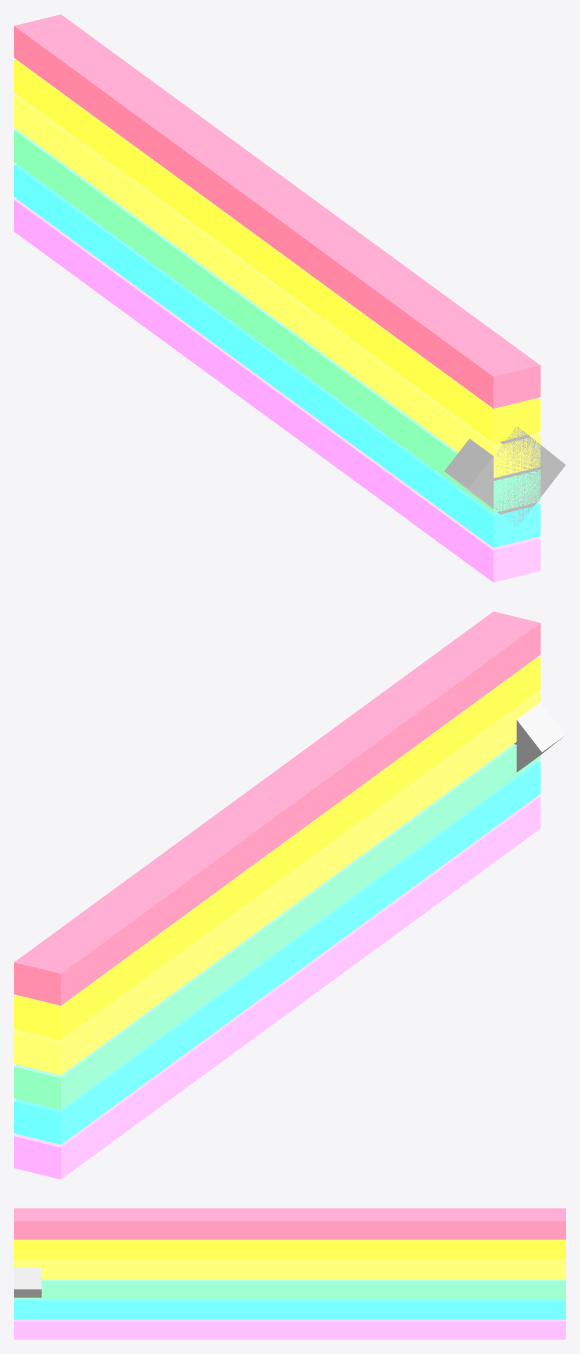
The model's file is FXRainbowBeam.fbx.
3 renders of one model, top to bottom at view 1: azimuth 30°, elevation 25°; view 2: azimuth 150°, elevation 25°; view 3: azimuth 270°, elevation 25°, orthographic. The views are drawn at different scales.
Parts seen in each view (by area): view 1: FX Rainbow Beam_body_0, FX Rainbow Beam_body_5, FX Rainbow Beam_body_1, FX Rainbow Beam_body_4, FX Rainbow Beam_body_2, FX Rainbow Beam_body_3, FX Rainbow Beam_body_6; view 2: FX Rainbow Beam_body_0, FX Rainbow Beam_body_1, FX Rainbow Beam_body_5, FX Rainbow Beam_body_4, FX Rainbow Beam_body_2, FX Rainbow Beam_body_3, FX Rainbow Beam_body_6; view 3: FX Rainbow Beam_body_0, FX Rainbow Beam_body_1, FX Rainbow Beam_body_4, FX Rainbow Beam_body_5, FX Rainbow Beam_body_2, FX Rainbow Beam_body_3, FX Rainbow Beam_body_6.
Part boxes in pixels (bbox=[...]): FX Rainbow Beam_body_0: bbox=[14, 14, 540, 408]; FX Rainbow Beam_body_5: bbox=[14, 199, 540, 582]; FX Rainbow Beam_body_1: bbox=[14, 60, 540, 443]; FX Rainbow Beam_body_4: bbox=[14, 164, 540, 547]; FX Rainbow Beam_body_2: bbox=[14, 94, 540, 477]; FX Rainbow Beam_body_3: bbox=[14, 129, 540, 512]; FX Rainbow Beam_body_6: bbox=[444, 426, 565, 525]; FX Rainbow Beam_body_0: bbox=[14, 611, 540, 1005]; FX Rainbow Beam_body_1: bbox=[14, 657, 540, 1040]; FX Rainbow Beam_body_5: bbox=[14, 796, 540, 1179]; FX Rainbow Beam_body_4: bbox=[14, 761, 540, 1144]; FX Rainbow Beam_body_2: bbox=[14, 691, 540, 1074]; FX Rainbow Beam_body_3: bbox=[14, 744, 540, 1109]; FX Rainbow Beam_body_6: bbox=[514, 702, 565, 772]; FX Rainbow Beam_body_0: bbox=[14, 1208, 565, 1239]; FX Rainbow Beam_body_1: bbox=[14, 1239, 565, 1259]; FX Rainbow Beam_body_4: bbox=[14, 1299, 565, 1319]; FX Rainbow Beam_body_5: bbox=[14, 1319, 565, 1339]; FX Rainbow Beam_body_2: bbox=[14, 1259, 565, 1279]; FX Rainbow Beam_body_3: bbox=[14, 1279, 565, 1299]; FX Rainbow Beam_body_6: bbox=[14, 1267, 41, 1297].
Bounding box in the file's own units: 70.71 × 142 × 600.
